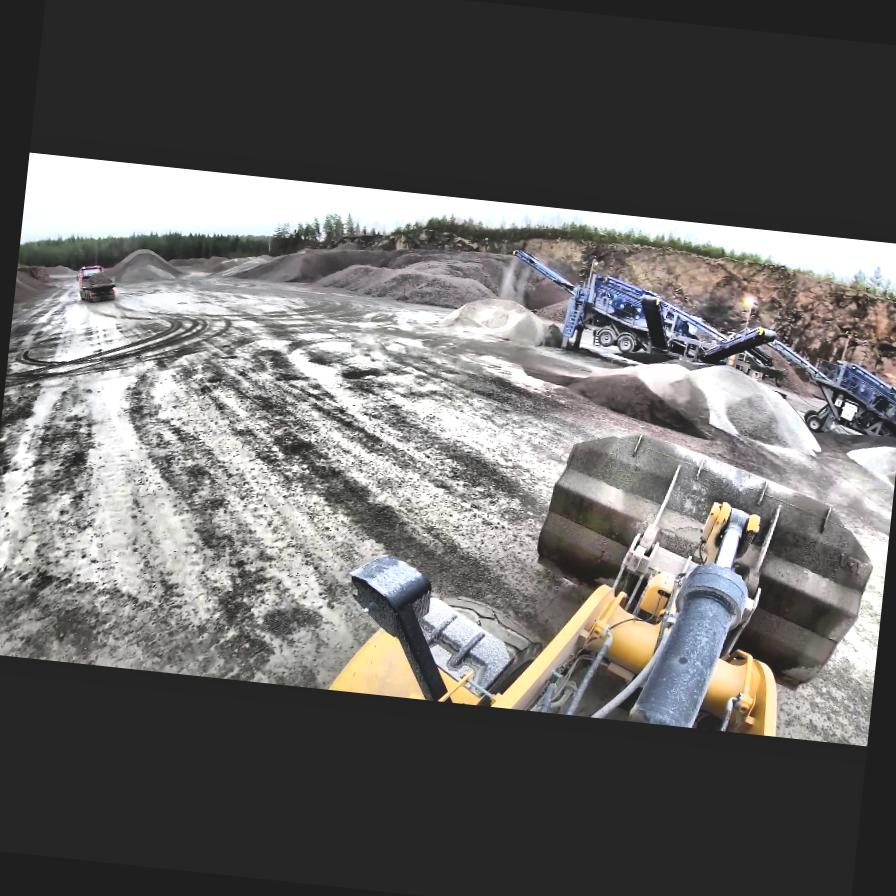anchor: (695, 499, 762, 572)
pile of gravel: (536, 340, 830, 461), (347, 236, 553, 317), (448, 290, 552, 344), (222, 242, 335, 288), (103, 243, 186, 284), (840, 436, 896, 491), (12, 264, 62, 314), (170, 250, 228, 274), (42, 261, 77, 278)
